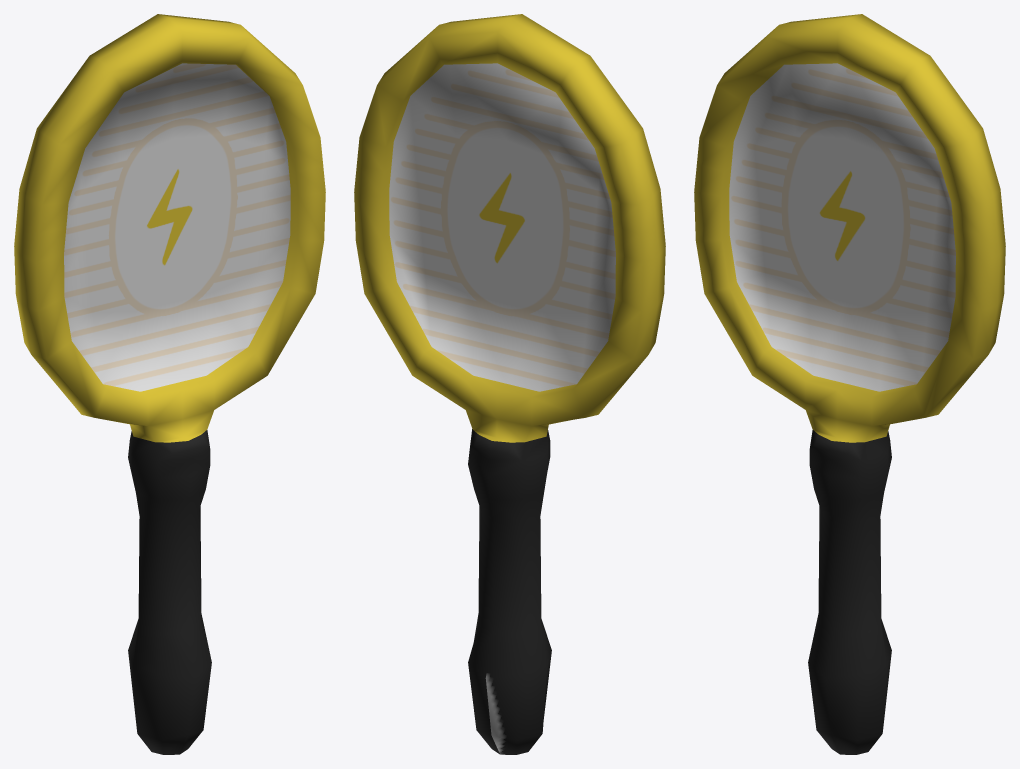
The model's file is rake 1.fbx.
The picture shows the model from 3 angles, left to right: view 1: azimuth 30°, elevation 25°; view 2: azimuth 150°, elevation 25°; view 3: azimuth 330°, elevation 25°; orthographic projection.
Visible parts, largest first — view 1: Raquette; view 2: Raquette; view 3: Raquette.
Part boxes in pixels (x1,y1,x2,y2): Raquette: (14,14,325,754); Raquette: (354,14,665,754); Raquette: (694,14,1005,754).
Size of the model in its own units: 247 by 576 by 69.42.
